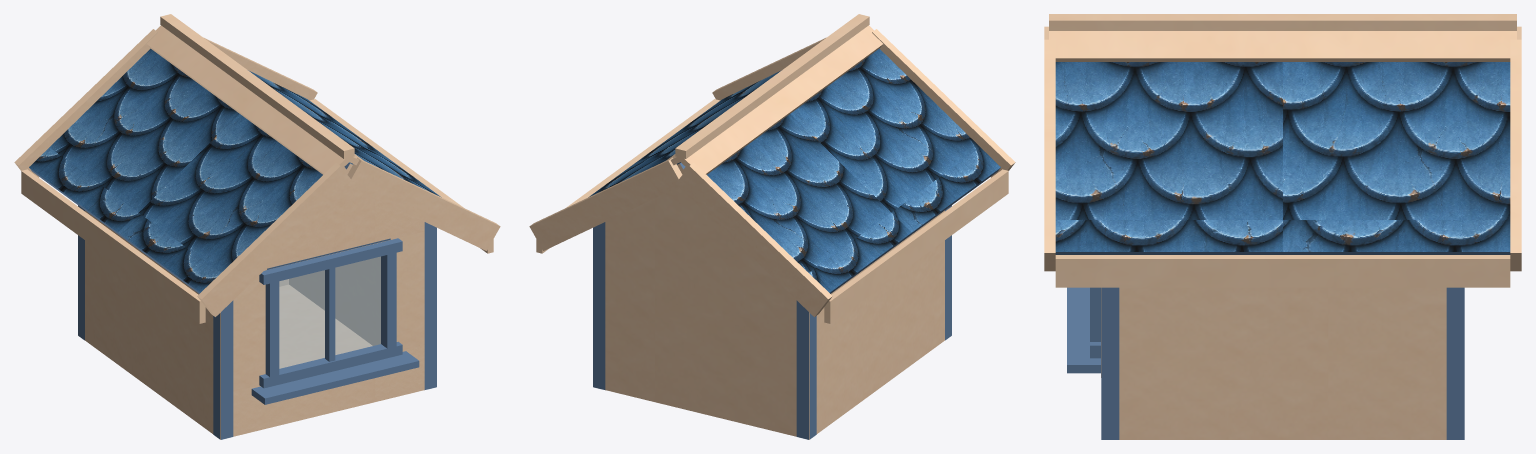
File: Roof_Dormer.fbx
3 renders of one model, left to right at view 1: azimuth 30°, elevation 25°; view 2: azimuth 150°, elevation 25°; view 3: azimuth 270°, elevation 25°, orthographic. The views are drawn at different scales.
Visible parts, largest first — view 1: Roof_Dormer; view 2: Roof_Dormer; view 3: Roof_Dormer.
Boxes of the visible parts, x1,y1,x2,y2 form: Roof_Dormer: (14,14,500,439); Roof_Dormer: (529,14,1015,439); Roof_Dormer: (1044,14,1521,439).
Bounding box in the file's own units: 1.94 × 1.73 × 2.1.
3 materials, 2 textured.
